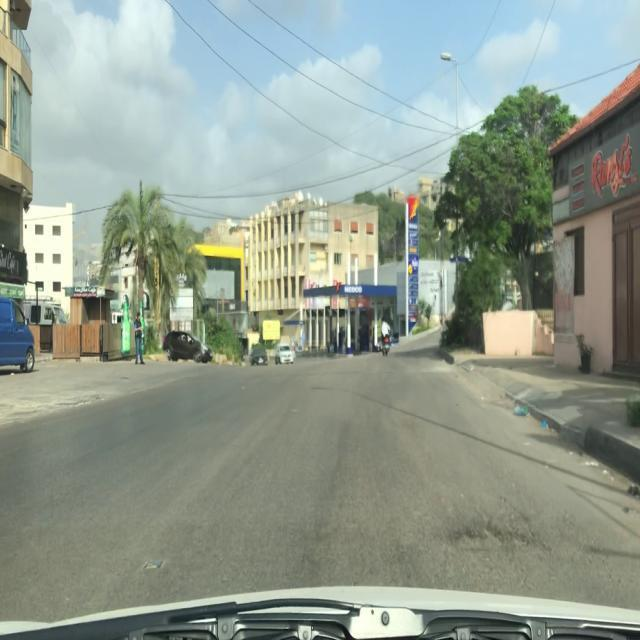pothole: (449, 527, 536, 555)
